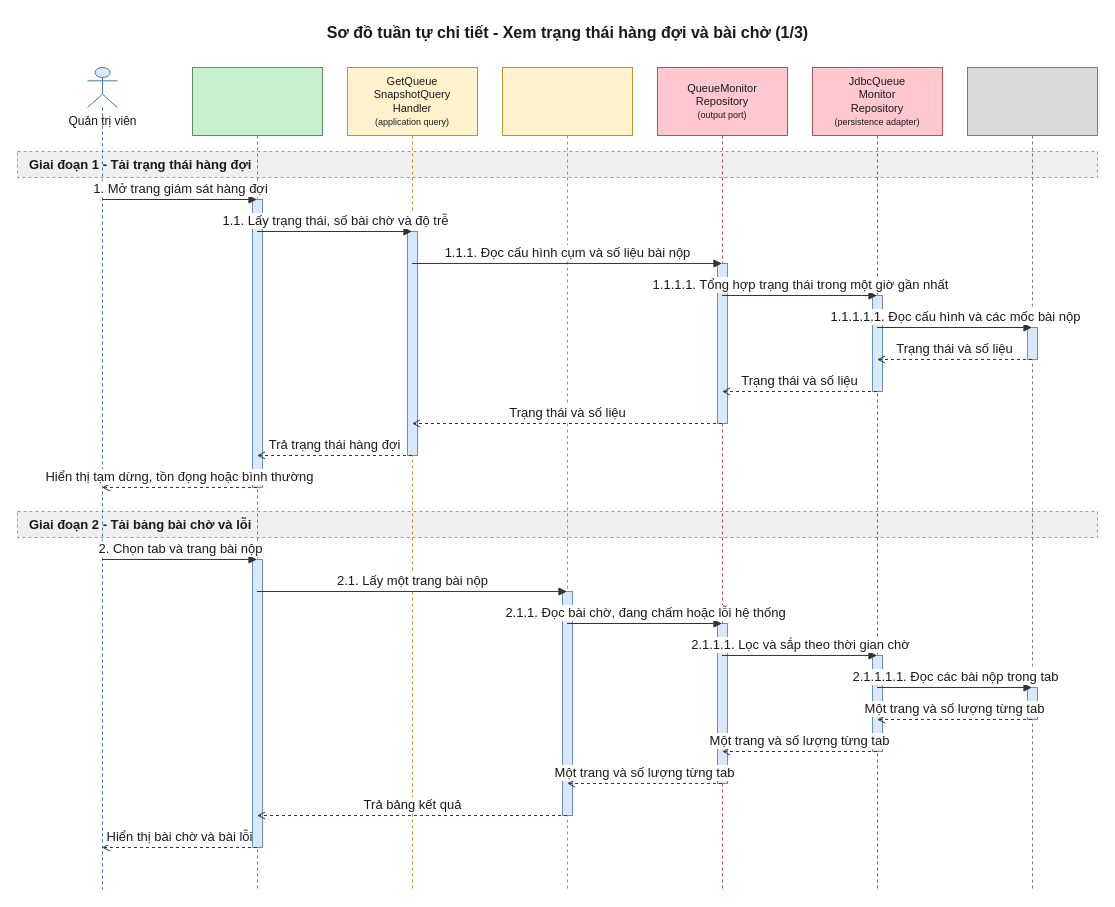
This 1115x907 diagram has some shape labels left out. Here are the shapes that lost their labels. From the top down, the box of each, then its label:
(192, 66, 322, 890): QueueMonitor Controller (presentation)
(502, 66, 632, 890): ListQueueJobs QueryHandler (application query)
(966, 66, 1098, 890): PostgreSQL (schema judge)
